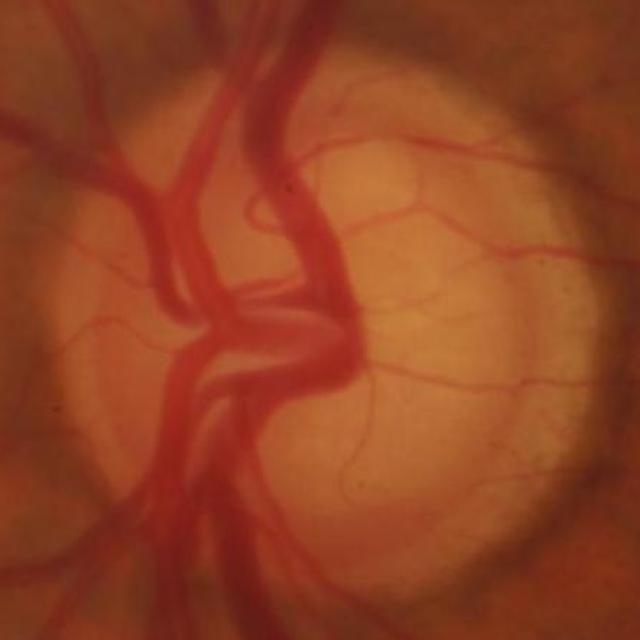OC: (225, 108, 486, 470)
OD: (49, 31, 607, 616)
